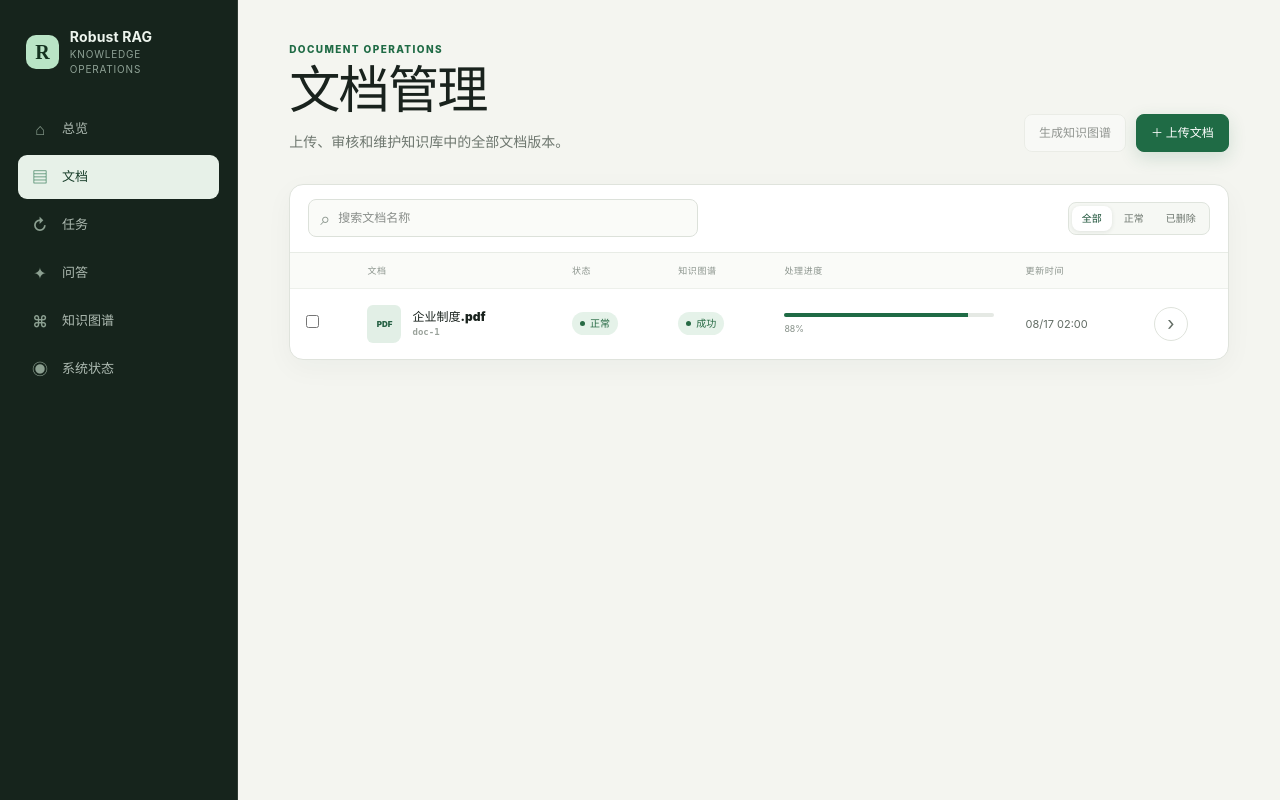
Test: stage 10 application › distinguishes a chunk gate quarantine from the previous document assessment
Click the button "PDF 企业制度.pdf doc-1" at (454, 324), box [368,305,540,343]
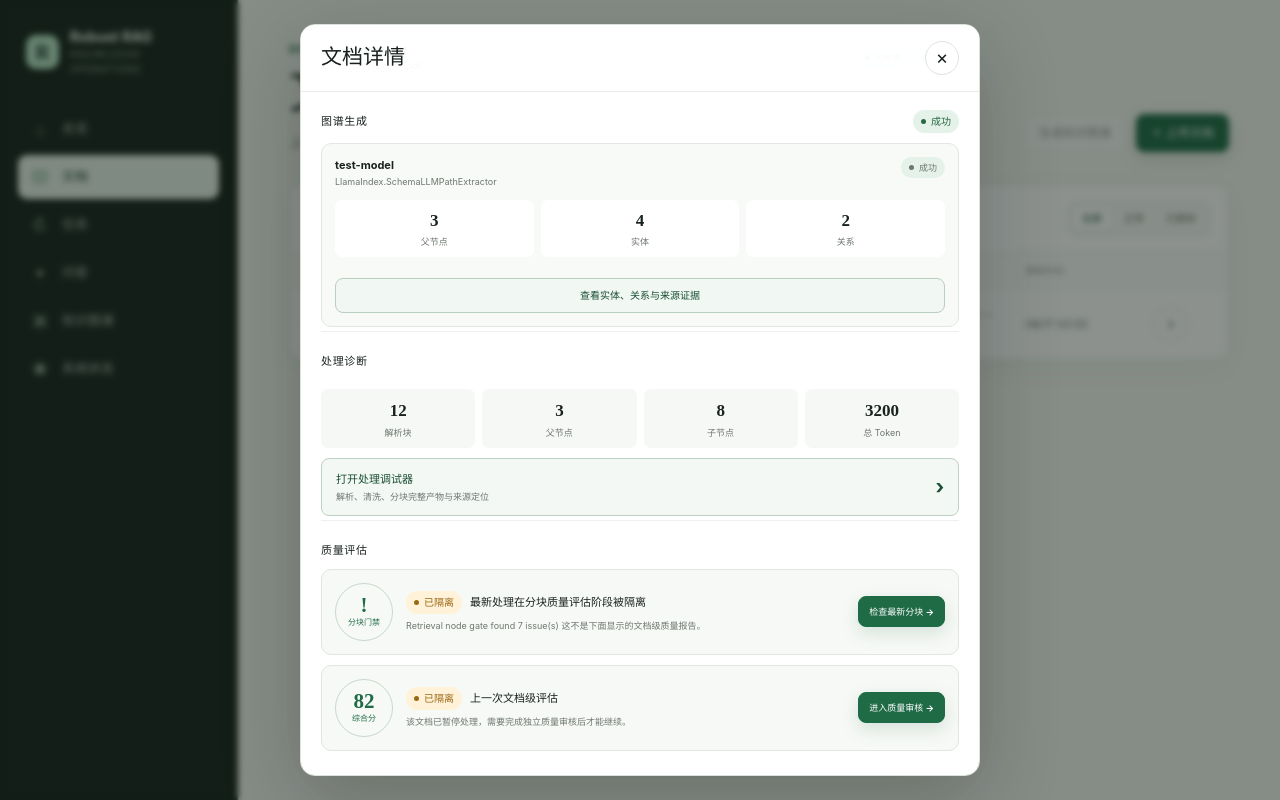
Check: the text "最新处理在分块质量评估阶段被隔离" is shown, box [470,594,646,610]
Check: the text "上一次文档级评估" is shown, box [470,690,558,706]
Click the button "检查最新分块 →" at (902, 612), box [858,596,945,627]
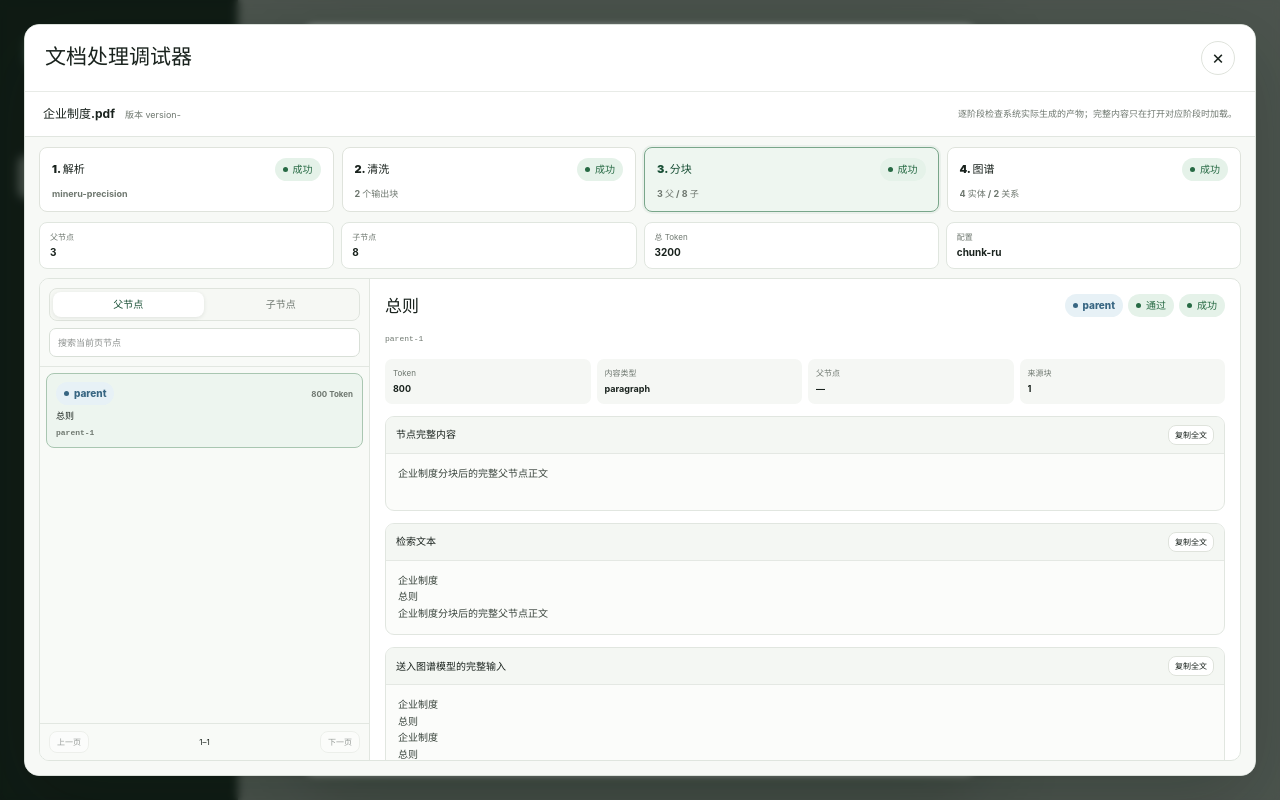
Check: the dialog "文档处理调试器" is shown
